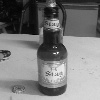beer: (33, 1, 69, 100)
